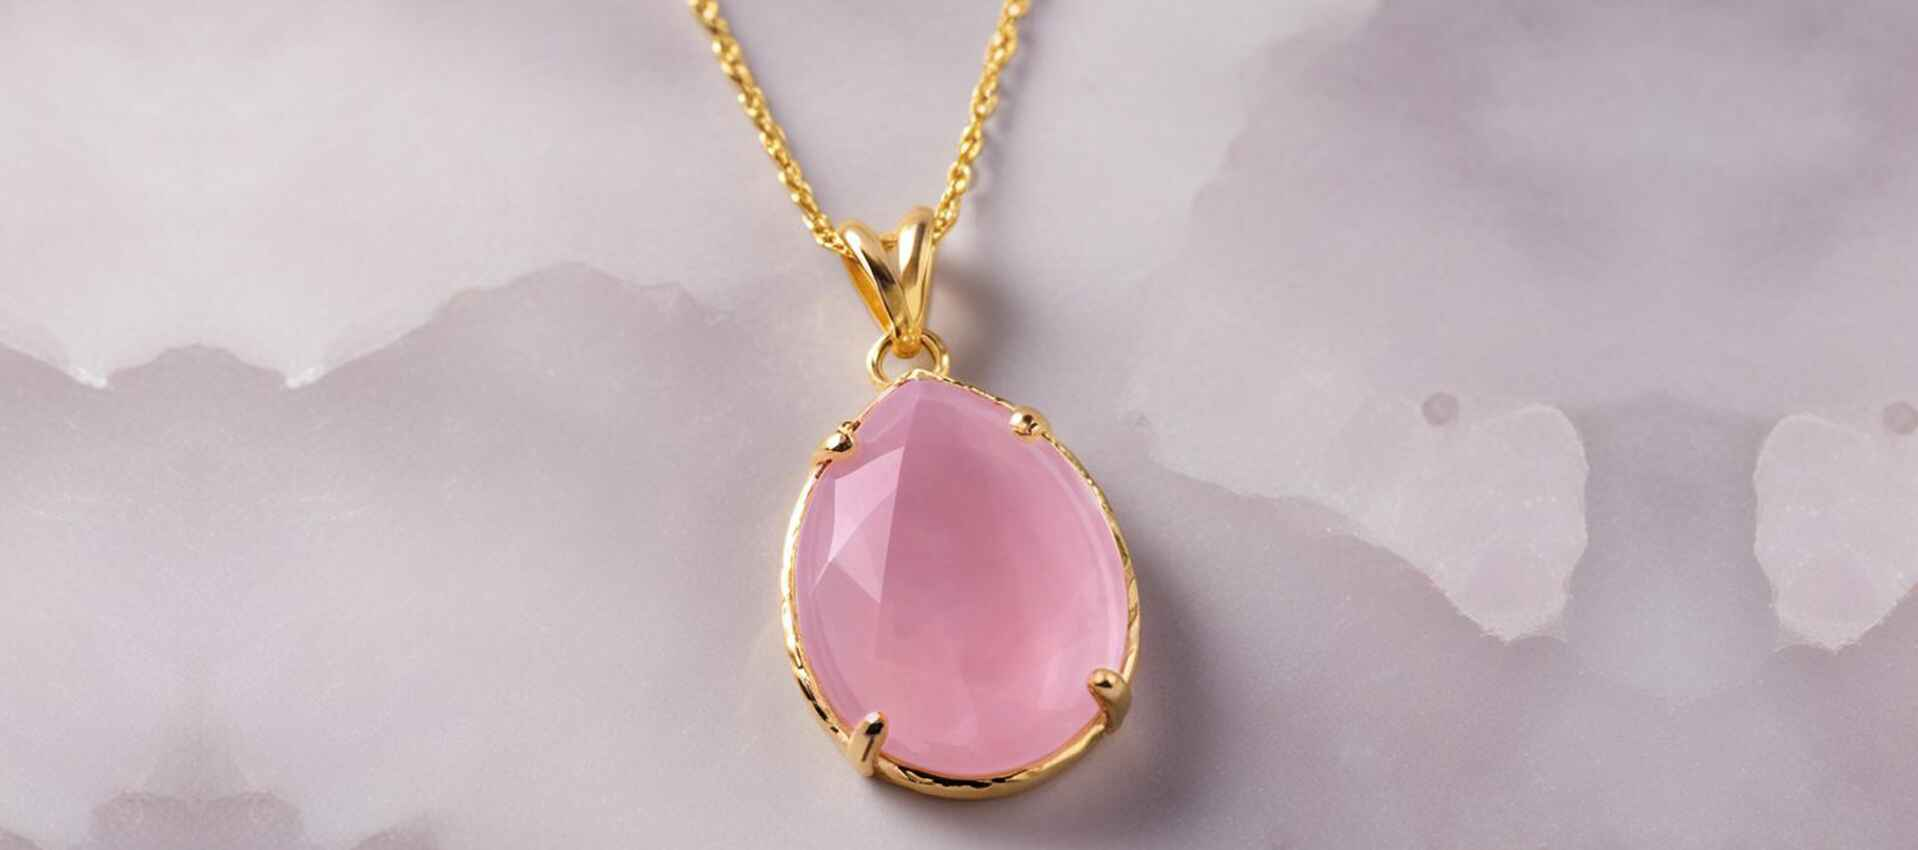Rose_Quartz: (851, 421, 1069, 758)
